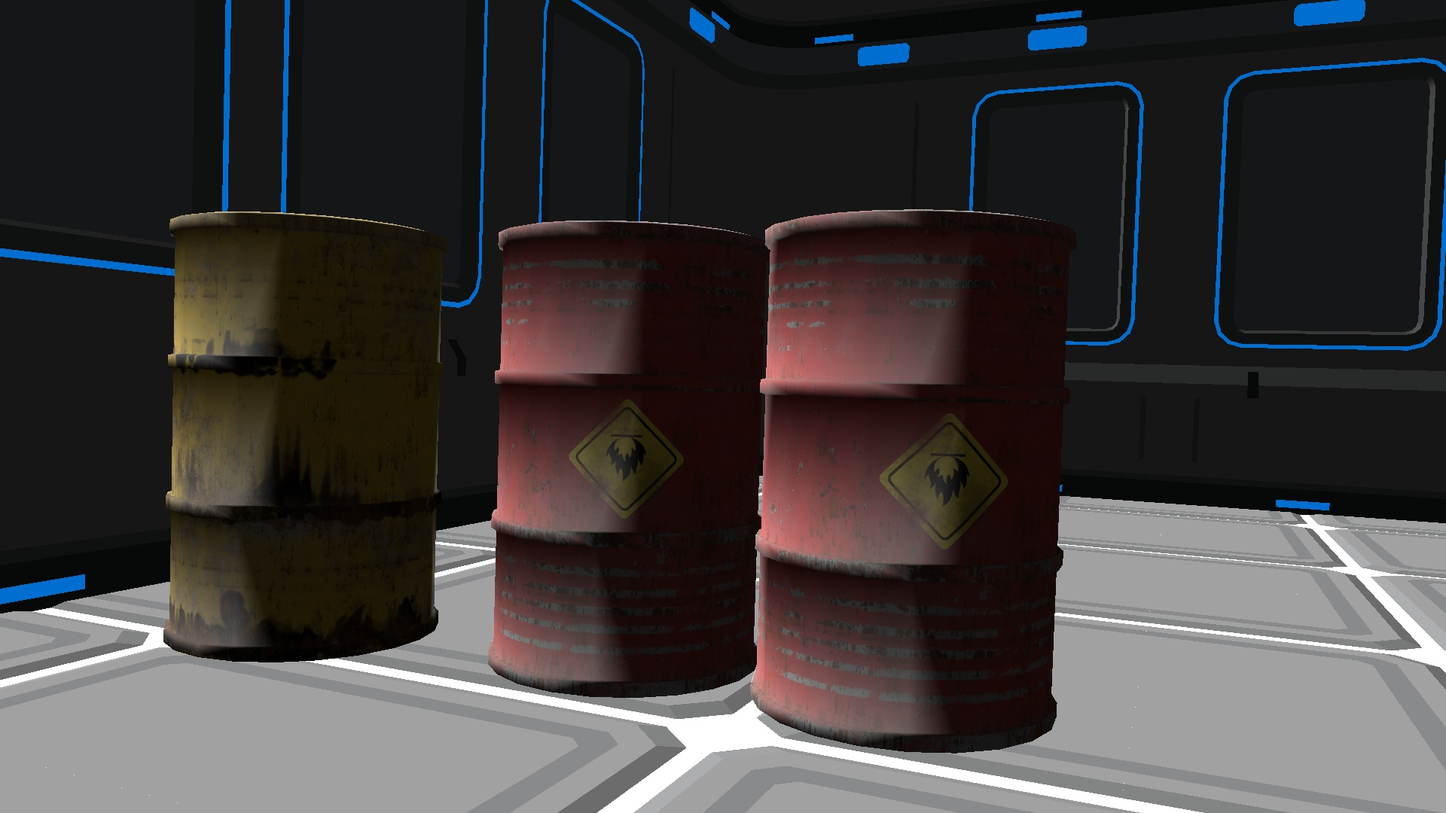toxic barrel: (750, 208, 1077, 752), (490, 220, 757, 698), (161, 211, 440, 662)
